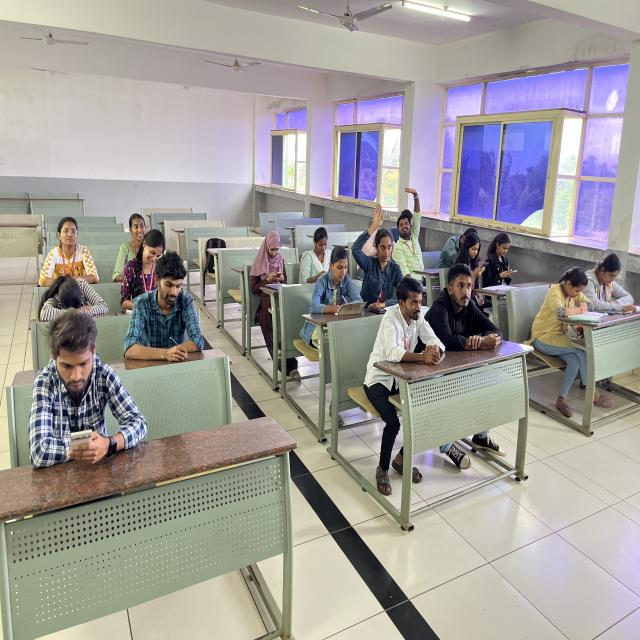Hand Rising: (346, 191, 415, 303), (391, 180, 426, 273)
Reading: (540, 261, 600, 334), (585, 251, 639, 313)
Sleeping: (28, 268, 114, 324)
Using Phone: (26, 305, 151, 470), (245, 228, 292, 324), (299, 223, 335, 292), (452, 230, 491, 287), (486, 230, 523, 284)
Writing: (121, 248, 212, 367), (299, 243, 367, 329), (121, 225, 167, 312)
